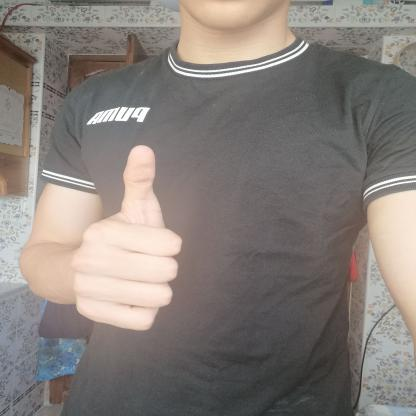ALIF: (60, 128, 197, 341)
